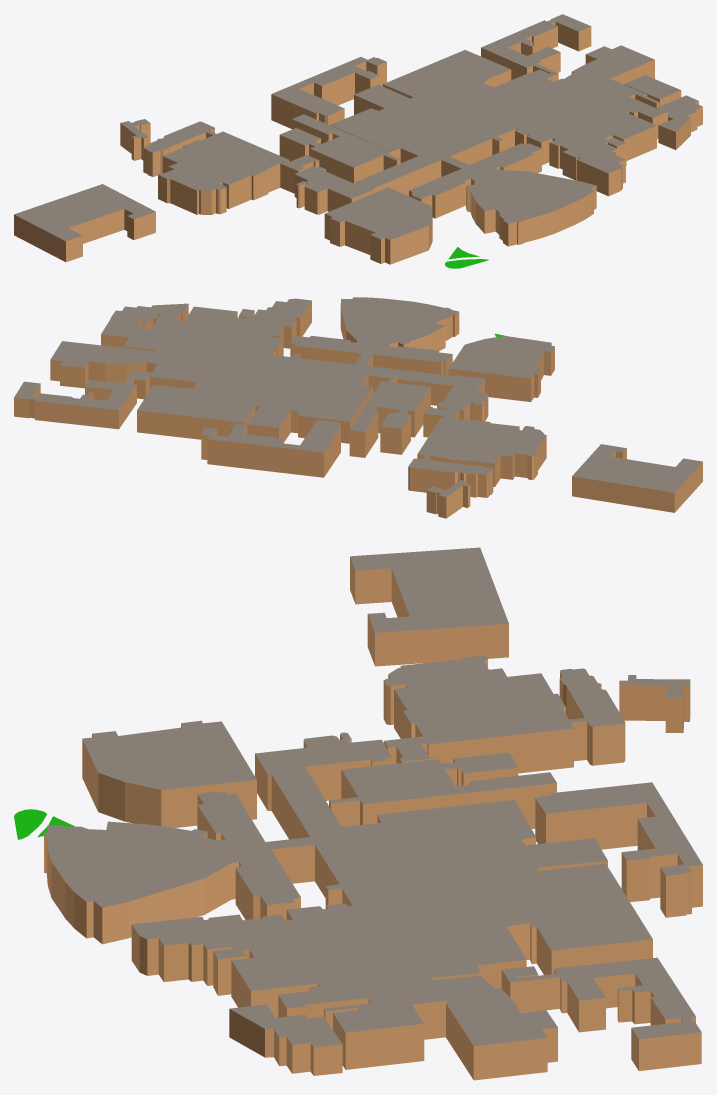
Rendered from cuh.glb.
3 views of the same model, one above another, from view 1: azimuth 30°, elevation 25°; view 2: azimuth 150°, elevation 25°; view 3: azimuth 270°, elevation 25° (orthographic). The views are drawn at different scales.
Parts seen in each view (by area): view 1: Cork University Hospital, UCC Dental Hospital, Cork University Maternity Hospital, CUH Mental Health Unit, Cork University Hospital Cardiac & Renal Centre, element.002, element, element.001, CUH Accident & Emergency, element.005, City Morgue, element.003; view 2: Cork University Hospital, UCC Dental Hospital, CUH Mental Health Unit, element.002, Cork University Maternity Hospital, Cork University Hospital Cardiac & Renal Centre, element.001, element, CUH Accident & Emergency, City Morgue, element.003, element.005; view 3: Cork University Hospital, UCC Dental Hospital, Cork University Maternity Hospital, CUH Mental Health Unit, Cork University Hospital Cardiac & Renal Centre, element.001, element.002, element, CUH Accident & Emergency, element.005, element.003, City Morgue.
Part boxes in pixels (x1,y1,x2,y2): Cork University Hospital: (294,50,667,218); UCC Dental Hospital: (143,121,319,214); Cork University Maternity Hospital: (466,168,596,246); CUH Mental Health Unit: (14,184,155,261); Cork University Hospital Cardiac & Renal Centre: (324,187,432,264); element.002: (271,57,386,128); element: (279,114,400,182); element.001: (481,14,591,81); CUH Accident & Emergency: (564,45,654,88); element.005: (657,95,702,149); City Morgue: (120,119,150,160); element.003: (624,75,681,106); Cork University Hospital: (123,298,488,443); UCC Dental Hospital: (408,406,546,497); CUH Mental Health Unit: (572,444,702,512); element.002: (201,420,340,477); Cork University Maternity Hospital: (340,297,459,350); Cork University Hospital Cardiac & Renal Centre: (448,336,554,401); element.001: (14,370,150,429); element: (349,374,430,457); CUH Accident & Emergency: (50,341,154,388); City Morgue: (426,480,470,518); element.003: (101,314,141,347); element.005: (110,303,188,329); Cork University Hospital: (131,732,652,1039); UCC Dental Hospital: (383,655,625,773); Cork University Maternity Hospital: (44,821,238,944); CUH Mental Health Unit: (350,547,508,666); Cork University Hospital Cardiac & Renal Centre: (82,720,256,827); element.001: (501,957,701,1070); element.002: (535,782,702,917); element: (329,752,556,828); CUH Accident & Emergency: (433,975,557,1080); element.005: (229,1004,342,1075); element.003: (333,1004,424,1069); City Morgue: (619,675,690,732).
Size of the model in its own units: 475 by 20.19 by 277.
